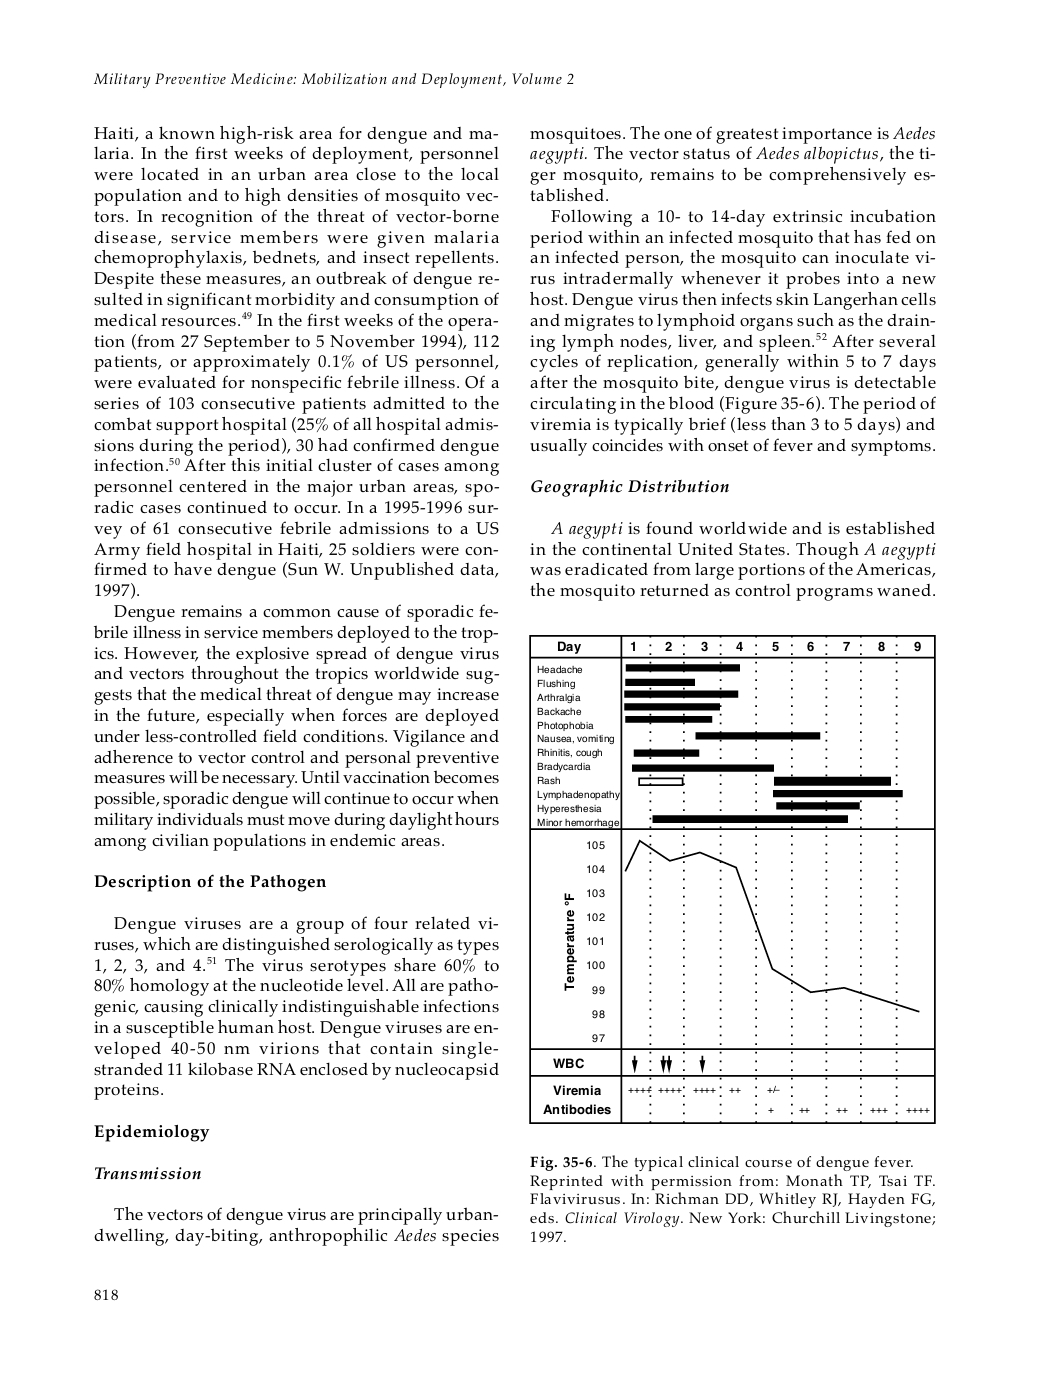figure: (529, 634, 935, 1124)
